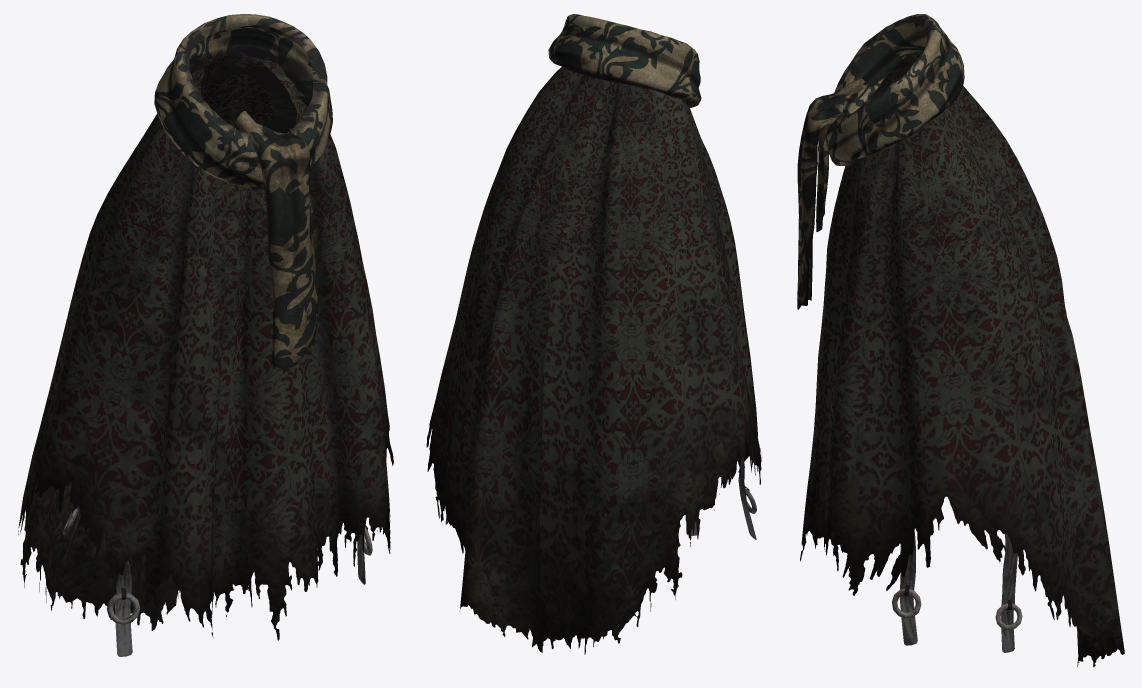
File: coat_1.obj
The picture shows the model from 3 angles, left to right: view 1: azimuth 30°, elevation 25°; view 2: azimuth 150°, elevation 25°; view 3: azimuth 270°, elevation 25°; orthographic projection. The views are drawn at different scales.
Parts seen in each view (by area): view 1: coat_1_Material.003; view 2: coat_1_Material.003; view 3: coat_1_Material.003.
Boxes of the visible parts, x1=… form: coat_1_Material.003: x1=18, y1=14, x2=393, y2=656; coat_1_Material.003: x1=426, y1=14, x2=761, y2=654; coat_1_Material.003: x1=797, y1=14, x2=1124, y2=667.
Size of the model in its own units: 0.5669 by 1.06 by 0.5004.
